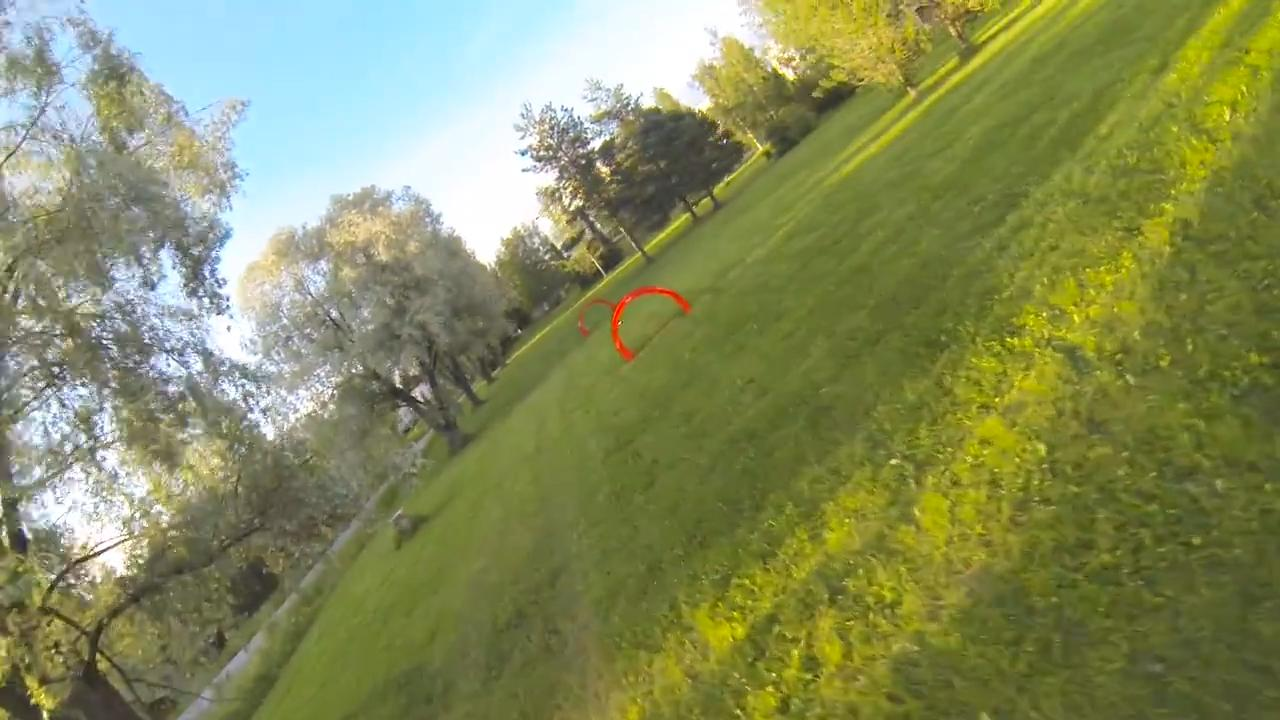gate: (609, 285, 691, 363)
